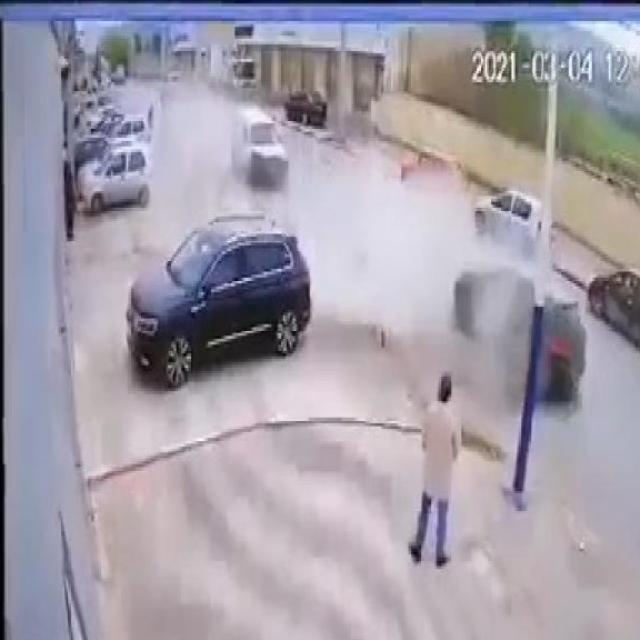accident: (221, 102, 302, 186)
non_accident: (113, 219, 315, 385), (68, 119, 168, 213)
